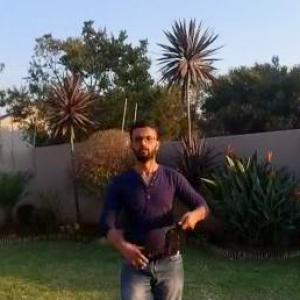follow: (94, 110, 216, 299)
